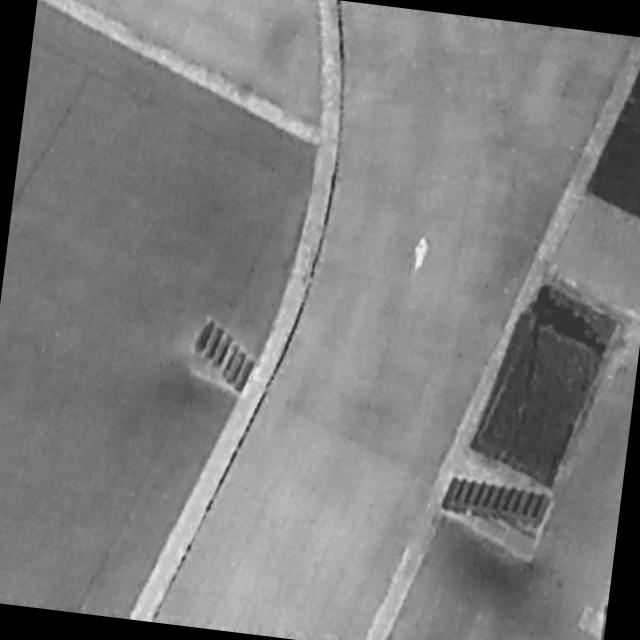person: (410, 232, 433, 278)
